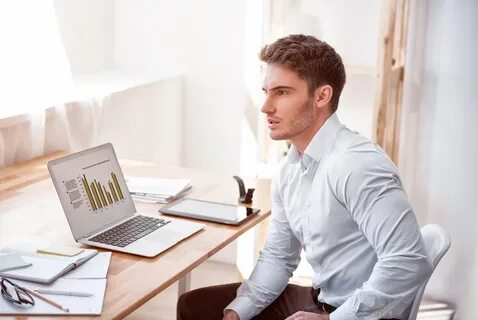awake: (174, 32, 434, 320)
